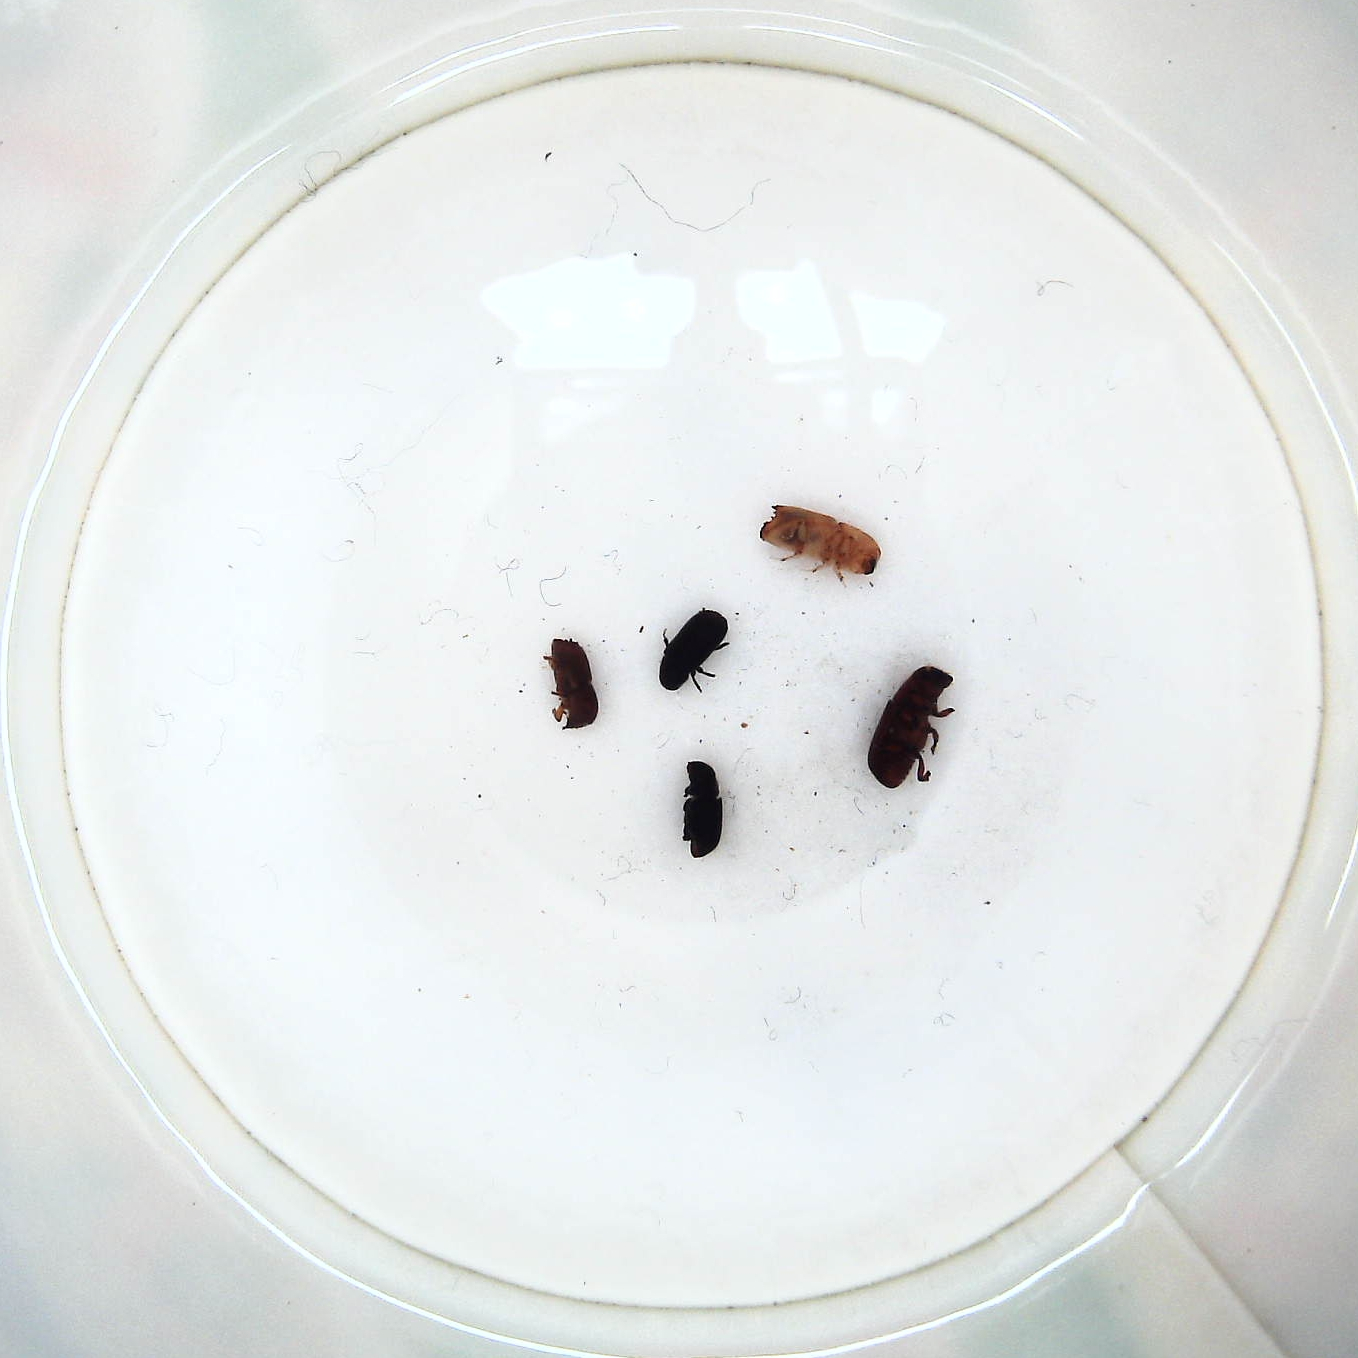Boerner: (754, 504, 884, 587)
Leconte: (864, 665, 959, 796)
armandi: (679, 752, 730, 861)
coleoptera: (657, 606, 735, 696)
linnaeus: (540, 630, 606, 735)
